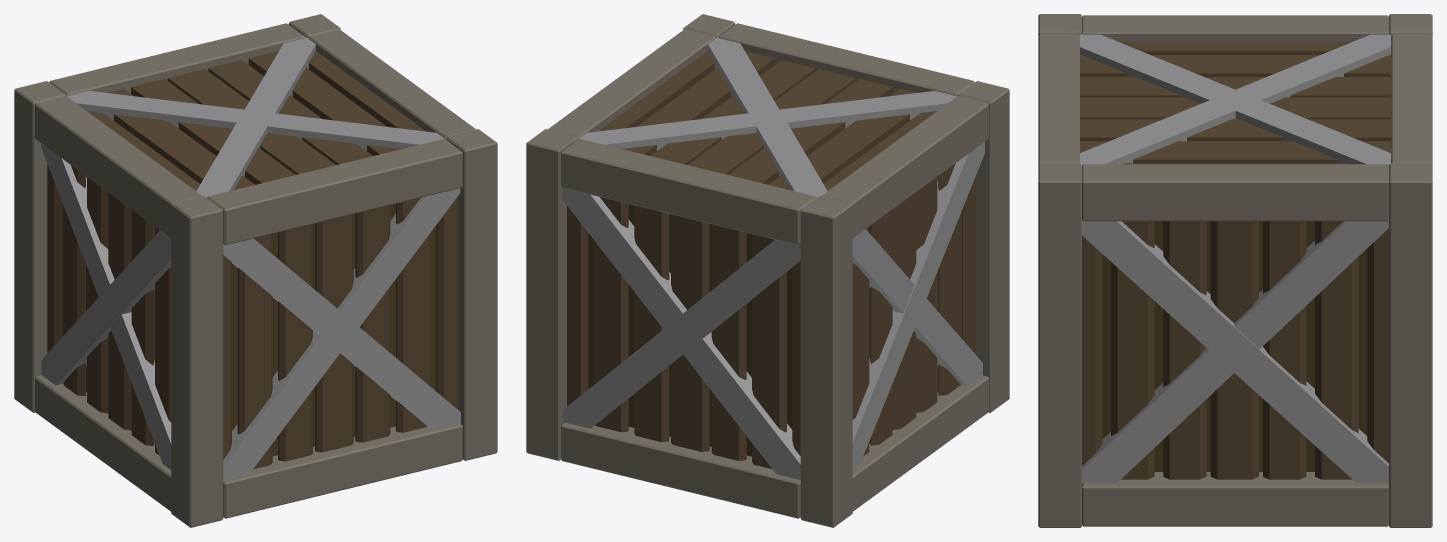
The model's file is BoxForGame_2.fbx.
3 views of the same model, side by side, from view 1: azimuth 30°, elevation 25°; view 2: azimuth 150°, elevation 25°; view 3: azimuth 270°, elevation 25° (orthographic). The views are drawn at different scales.
Parts seen in each view (by area): view 1: HorizontalBeamBack.002, UpSyntez.001, VerticalBeam.002, FrontWoods.001, UpWoods.001, SideWoods.001, Base.001; view 2: HorizontalBeamBack.002, UpSyntez.001, VerticalBeam.002, FrontWoods.001, UpWoods.001, SideWoods.001, Base.001; view 3: HorizontalBeamBack.002, SideWoods.001, UpSyntez.001, VerticalBeam.002, UpWoods.001, Base.001.
Boxes of the visible parts, x1,y1,x2,y2 form: HorizontalBeamBack.002: (35,23,475,518); UpSyntez.001: (41,35,460,479); VerticalBeam.002: (14,14,497,527); FrontWoods.001: (223,197,457,469); UpWoods.001: (87,51,425,190); SideWoods.001: (47,164,171,454); Base.001: (232,204,436,456); HorizontalBeamBack.002: (548,23,988,518); UpSyntez.001: (562,35,985,479); VerticalBeam.002: (526,14,1009,527); FrontWoods.001: (567,197,800,468); UpWoods.001: (598,51,936,190); SideWoods.001: (852,163,976,455); Base.001: (588,204,792,456); HorizontalBeamBack.002: (1038,15,1432,526); SideWoods.001: (1082,221,1388,479); UpSyntez.001: (1080,34,1390,483); VerticalBeam.002: (1038,14,1432,527); UpWoods.001: (1080,41,1390,164); Base.001: (1102,221,1367,471).
Size of the model in its own units: 232 by 224 by 231.
